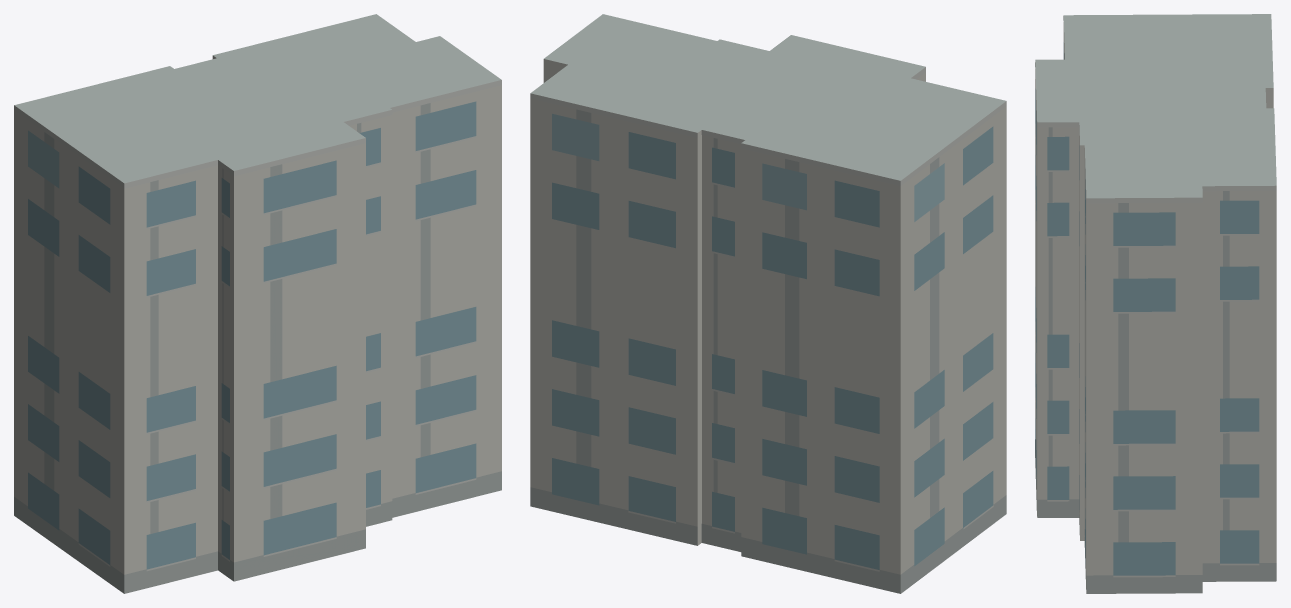
The model's file is survey-upis-32765855.glb.
The picture shows the model from 3 angles, left to right: view 1: azimuth 30°, elevation 25°; view 2: azimuth 150°, elevation 25°; view 3: azimuth 270°, elevation 25°; orthographic projection. The views are drawn at different scales.
Parts seen in each view (by area): view 1: survey-upis-32765855.tmp; view 2: survey-upis-32765855.tmp; view 3: survey-upis-32765855.tmp.
Part boxes in pixels (x1,y1,x2,y2): survey-upis-32765855.tmp: [14, 14, 501, 593]; survey-upis-32765855.tmp: [530, 14, 1006, 593]; survey-upis-32765855.tmp: [1035, 14, 1276, 593].
Bounding box in the file's own units: 19.19 × 19.2 × 10.64.
